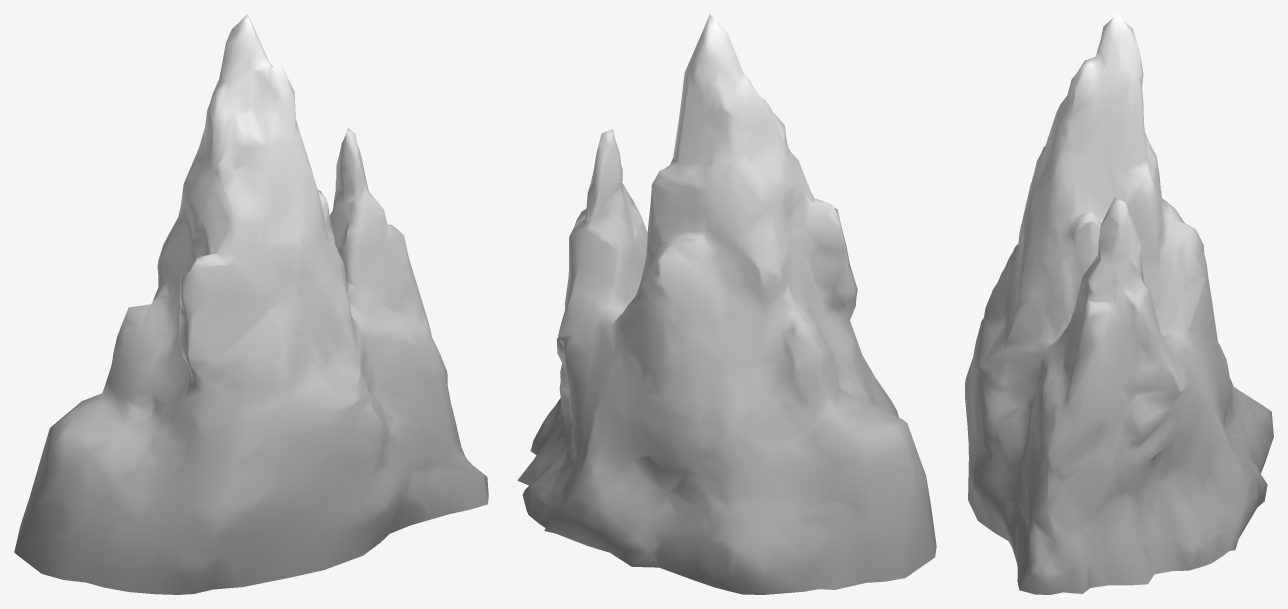
File: Mountain_15.glb
3 renders of one model, left to right at view 1: azimuth 30°, elevation 25°; view 2: azimuth 150°, elevation 25°; view 3: azimuth 270°, elevation 25°, orthographic. The views are drawn at different scales.
Parts seen in each view (by area): view 1: Mountain_15; view 2: Mountain_15; view 3: Mountain_15.
Boxes of the visible parts, <box> form: Mountain_15: <box>14,14,488,594</box>; Mountain_15: <box>517,14,936,594</box>; Mountain_15: <box>965,14,1273,594</box>.
Bounding box in the file's own units: 30.61 × 34.97 × 20.14.
Materials: 1 (1 with a texture image).
